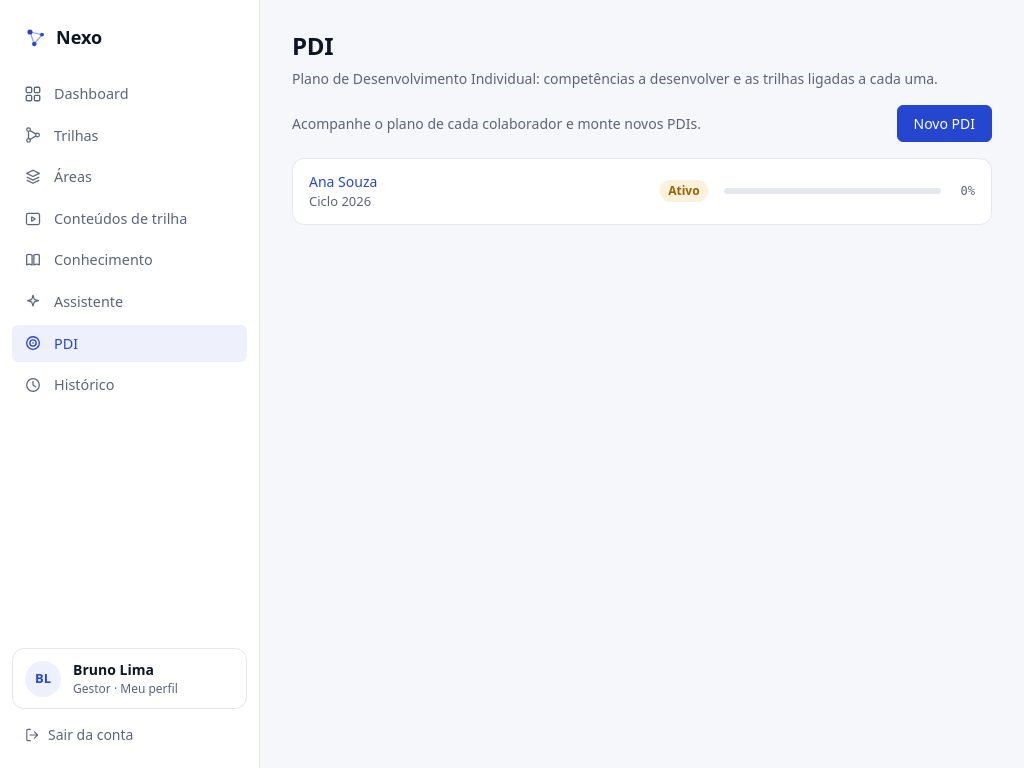
Test case: PdiPage — PDIs da equipe › PDI repetido no ciclo mostra a mensagem da API
Click the button "Novo PDI": {"x": 944, "y": 124} top-left (896, 105), bottom-right (992, 142)
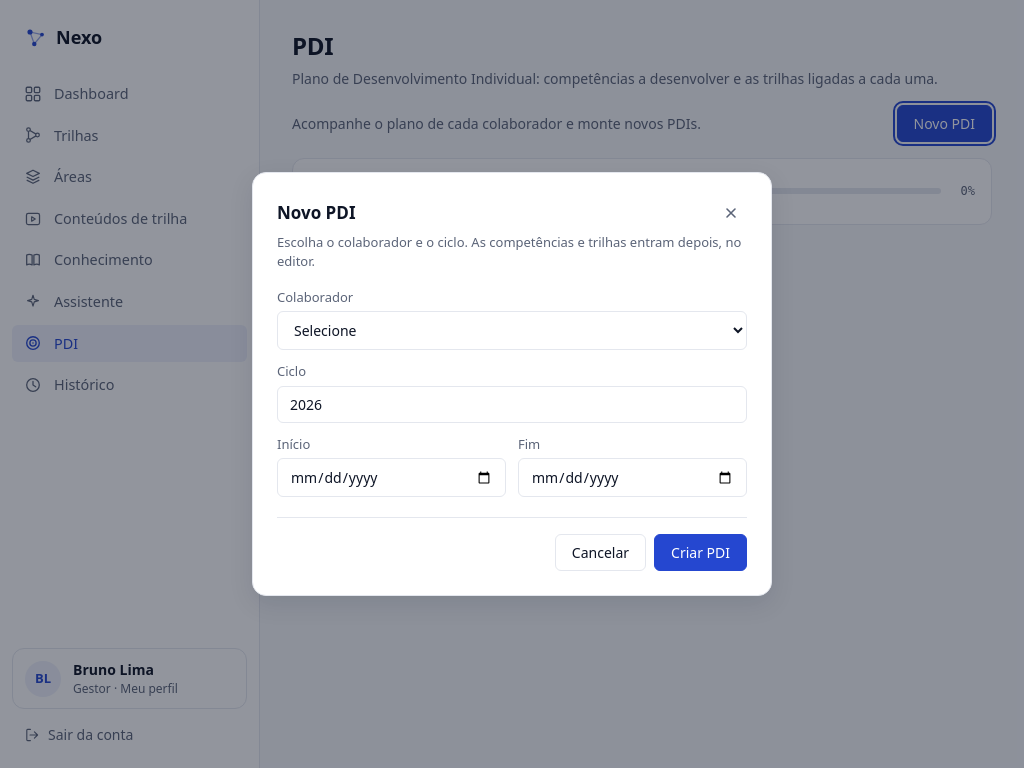
Select "Ana Souza (ana@nexo.com)" in the dropdown labelled "Colaborador": {"x": 512, "y": 331} top-left (277, 311), bottom-right (747, 350)
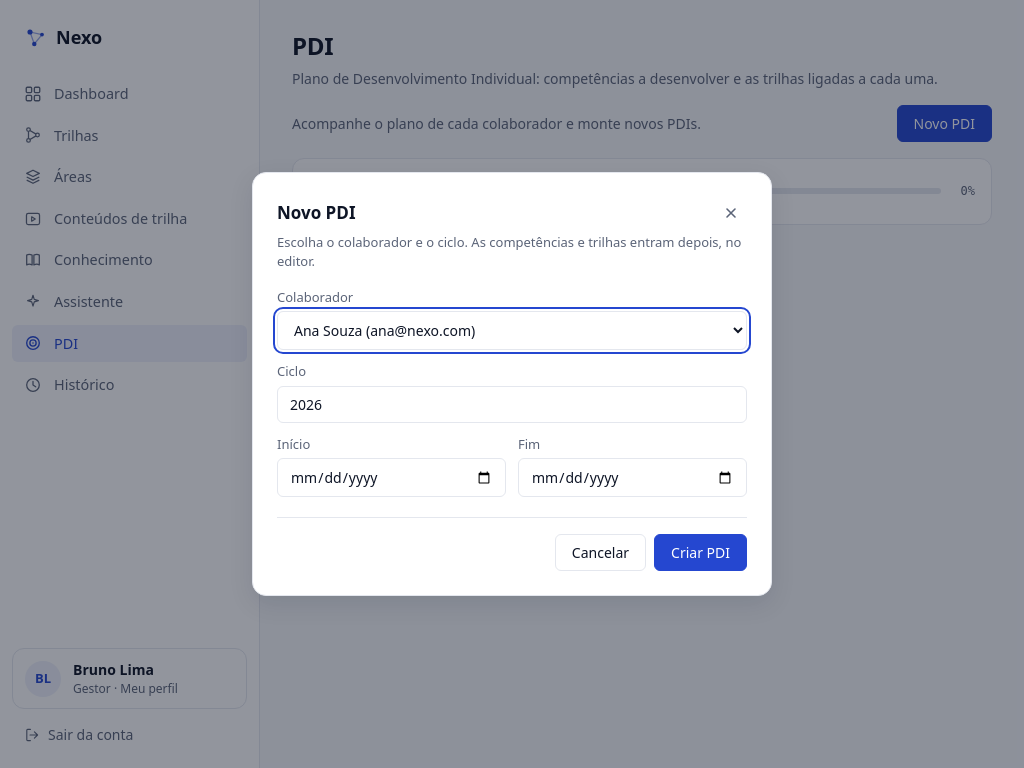
In the date field labelled "Início": {"x": 392, "y": 478} top-left (277, 458), bottom-right (506, 497), type "2026-01-01"
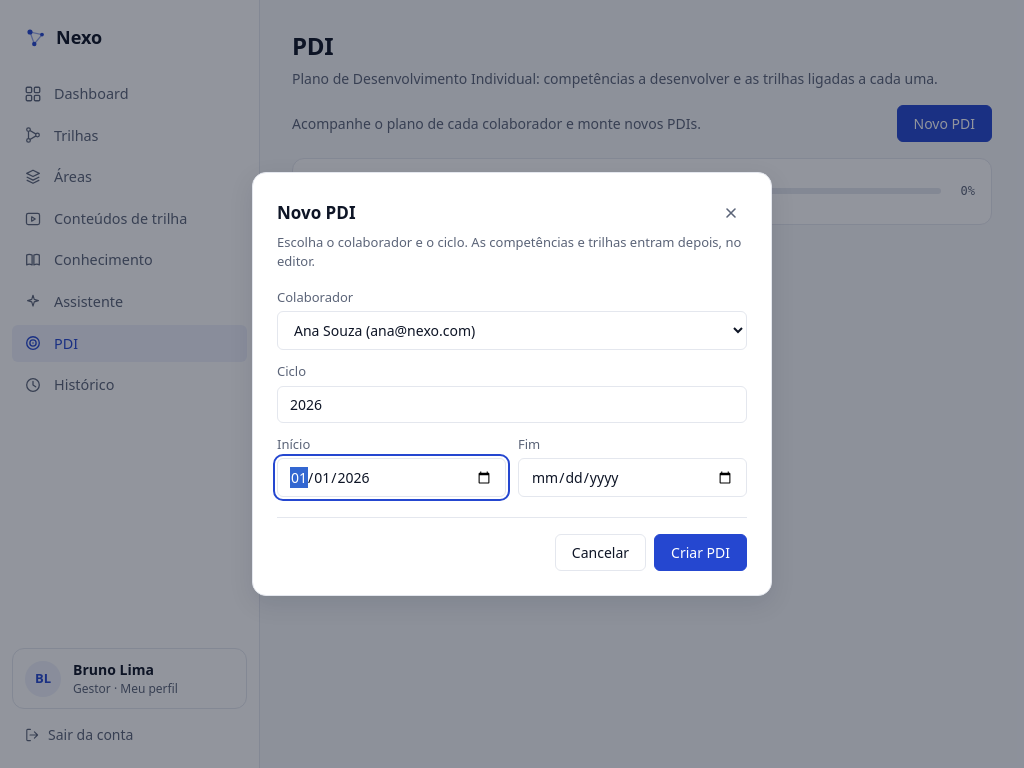
In the date field labelled "Fim": {"x": 632, "y": 478} top-left (518, 458), bottom-right (747, 497), type "2026-12-31"
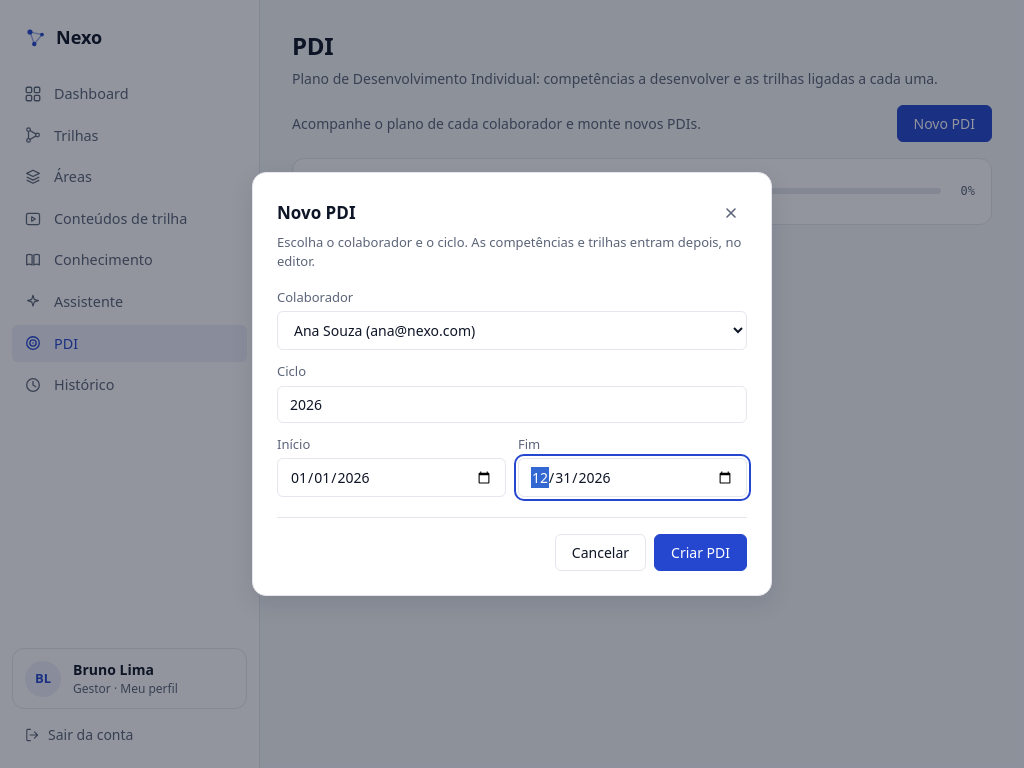
Click the button "Criar PDI": {"x": 700, "y": 553} top-left (654, 534), bottom-right (747, 571)
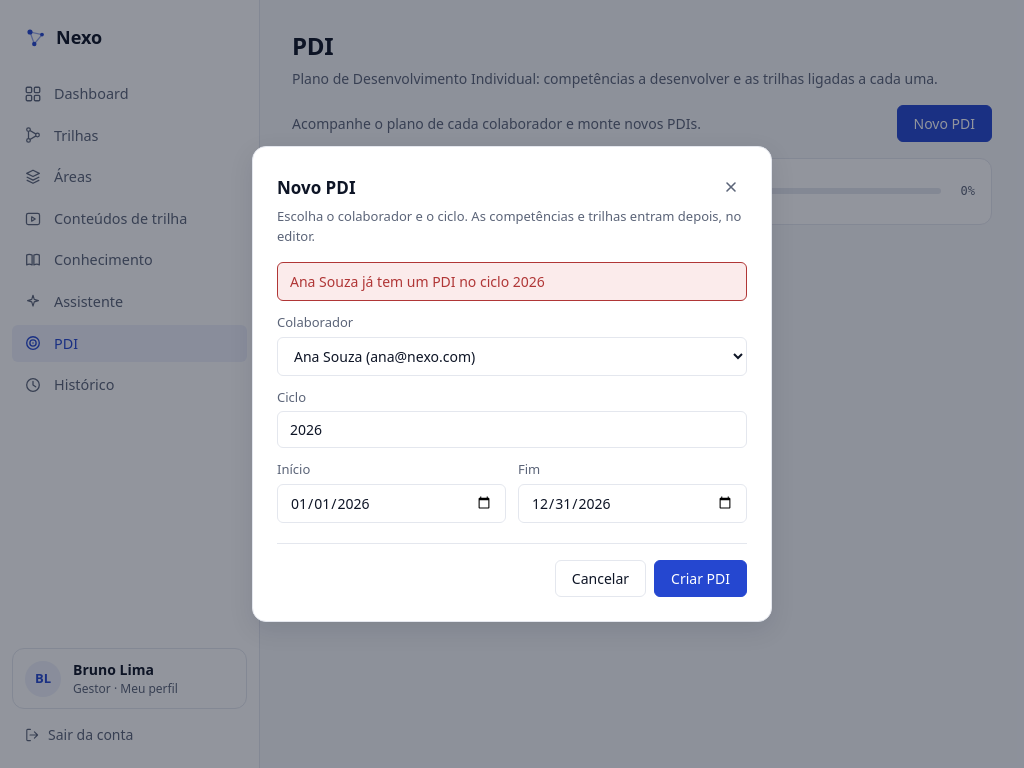
Result: the message reads "Ana Souza já tem um PDI no ciclo 2026" at top-left (290, 272), bottom-right (545, 291)
